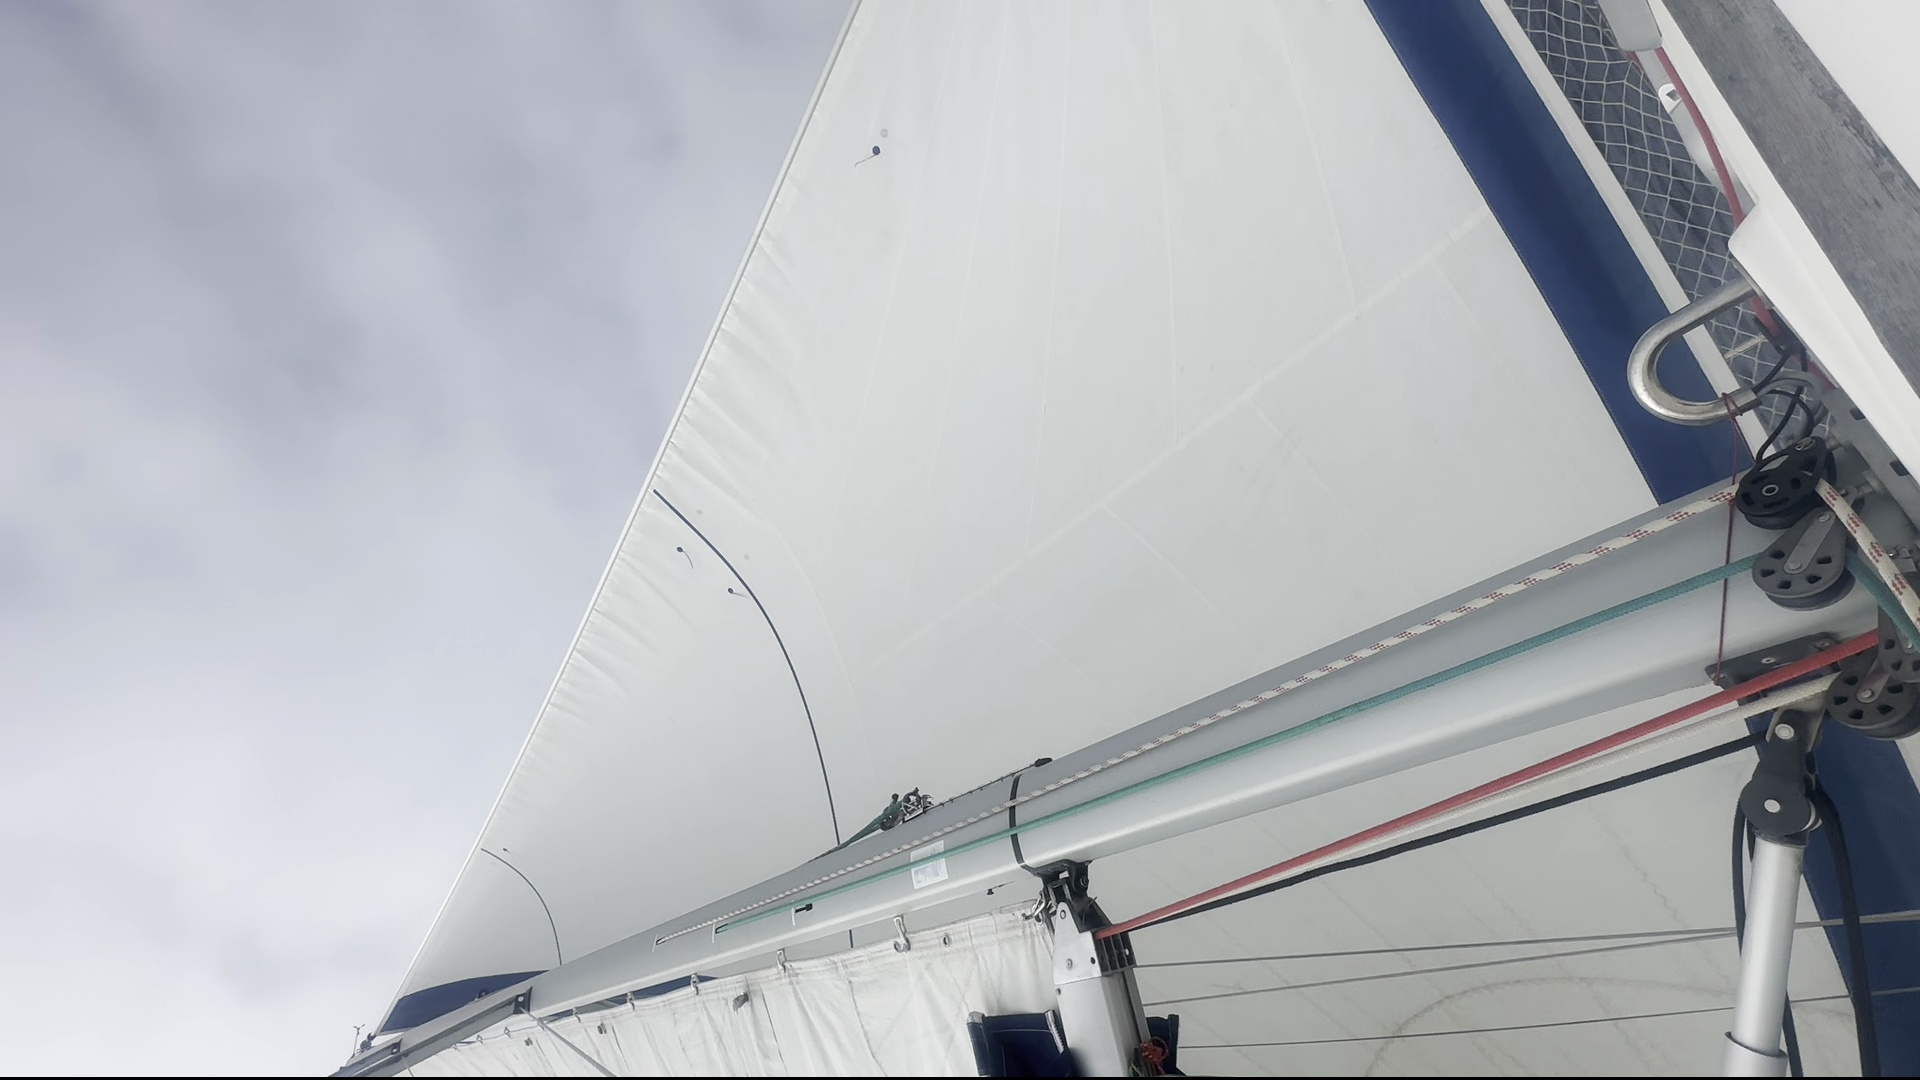pennon_attached: (674, 543, 699, 571)
pennon_detached: (849, 142, 885, 175), (725, 583, 749, 603)
